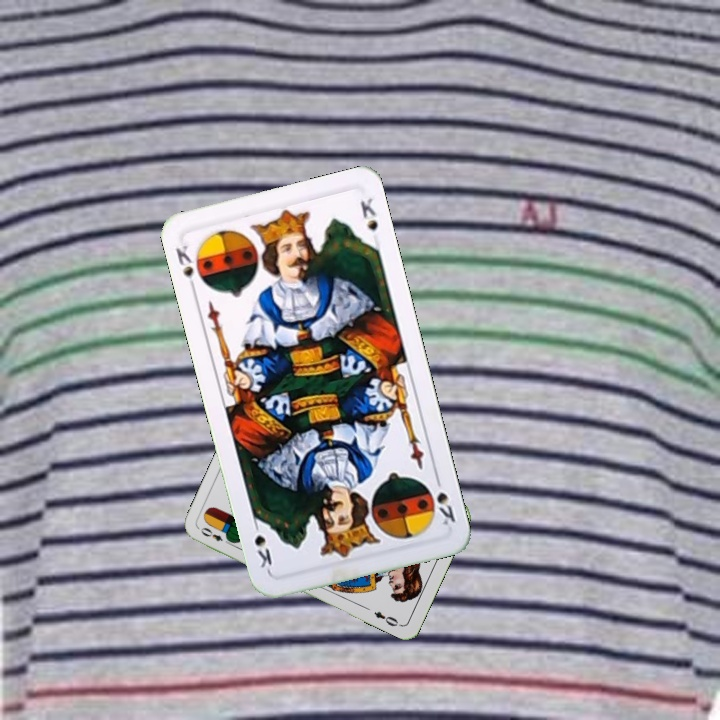EO: (196, 523, 234, 548)
SK: (431, 471, 458, 528), (171, 241, 199, 295)
